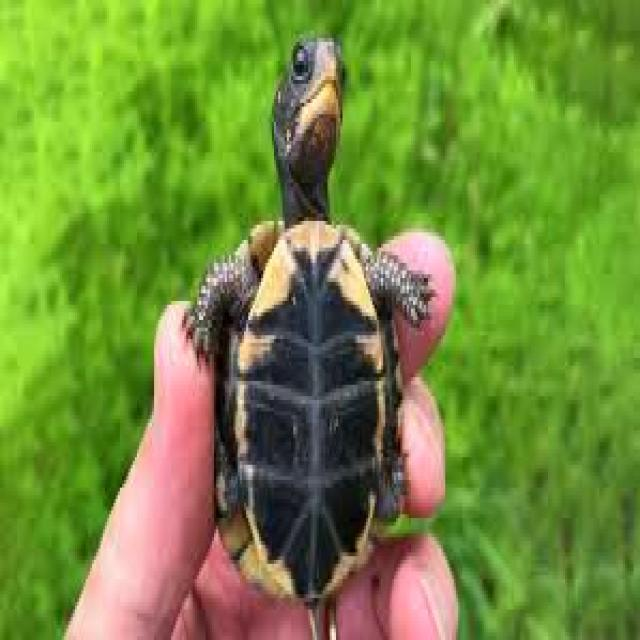turtle: (182, 38, 432, 636)
